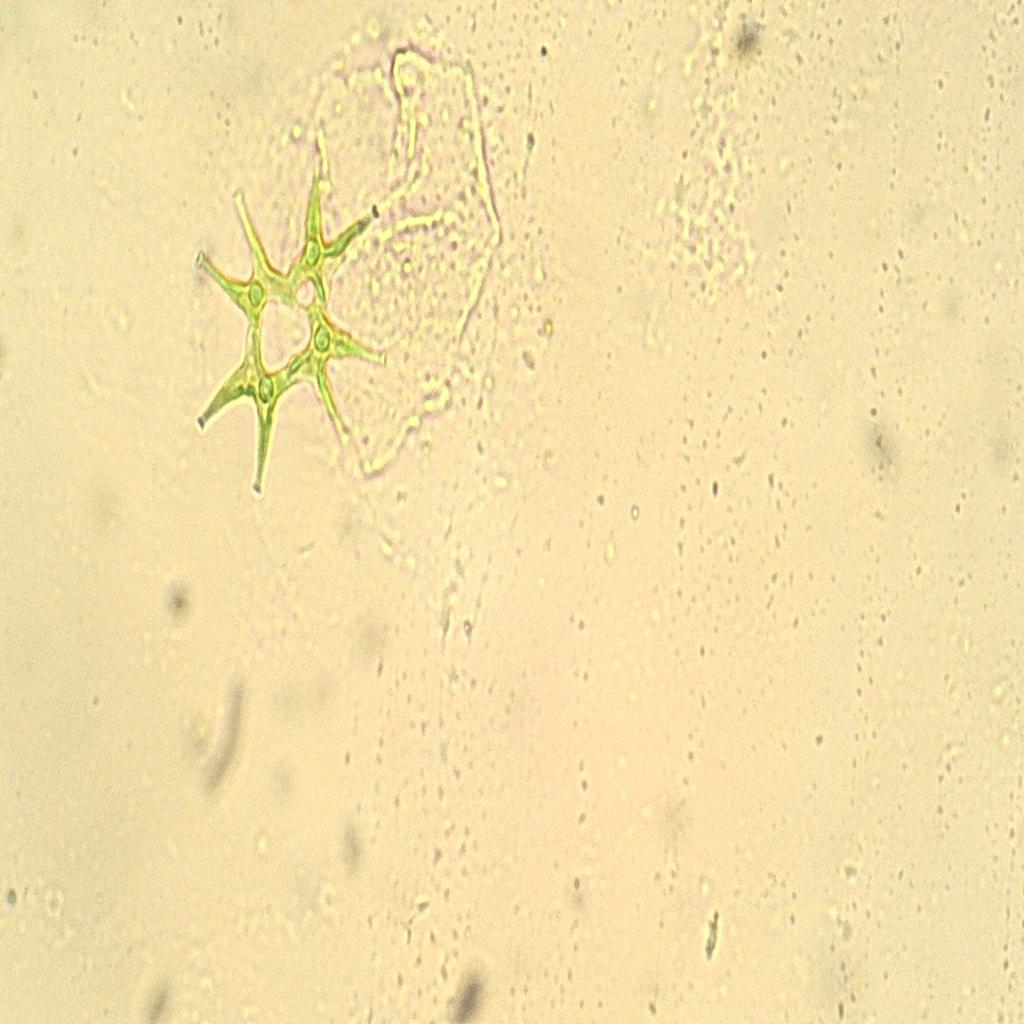Pediastrum_CF: (166, 144, 412, 514)
